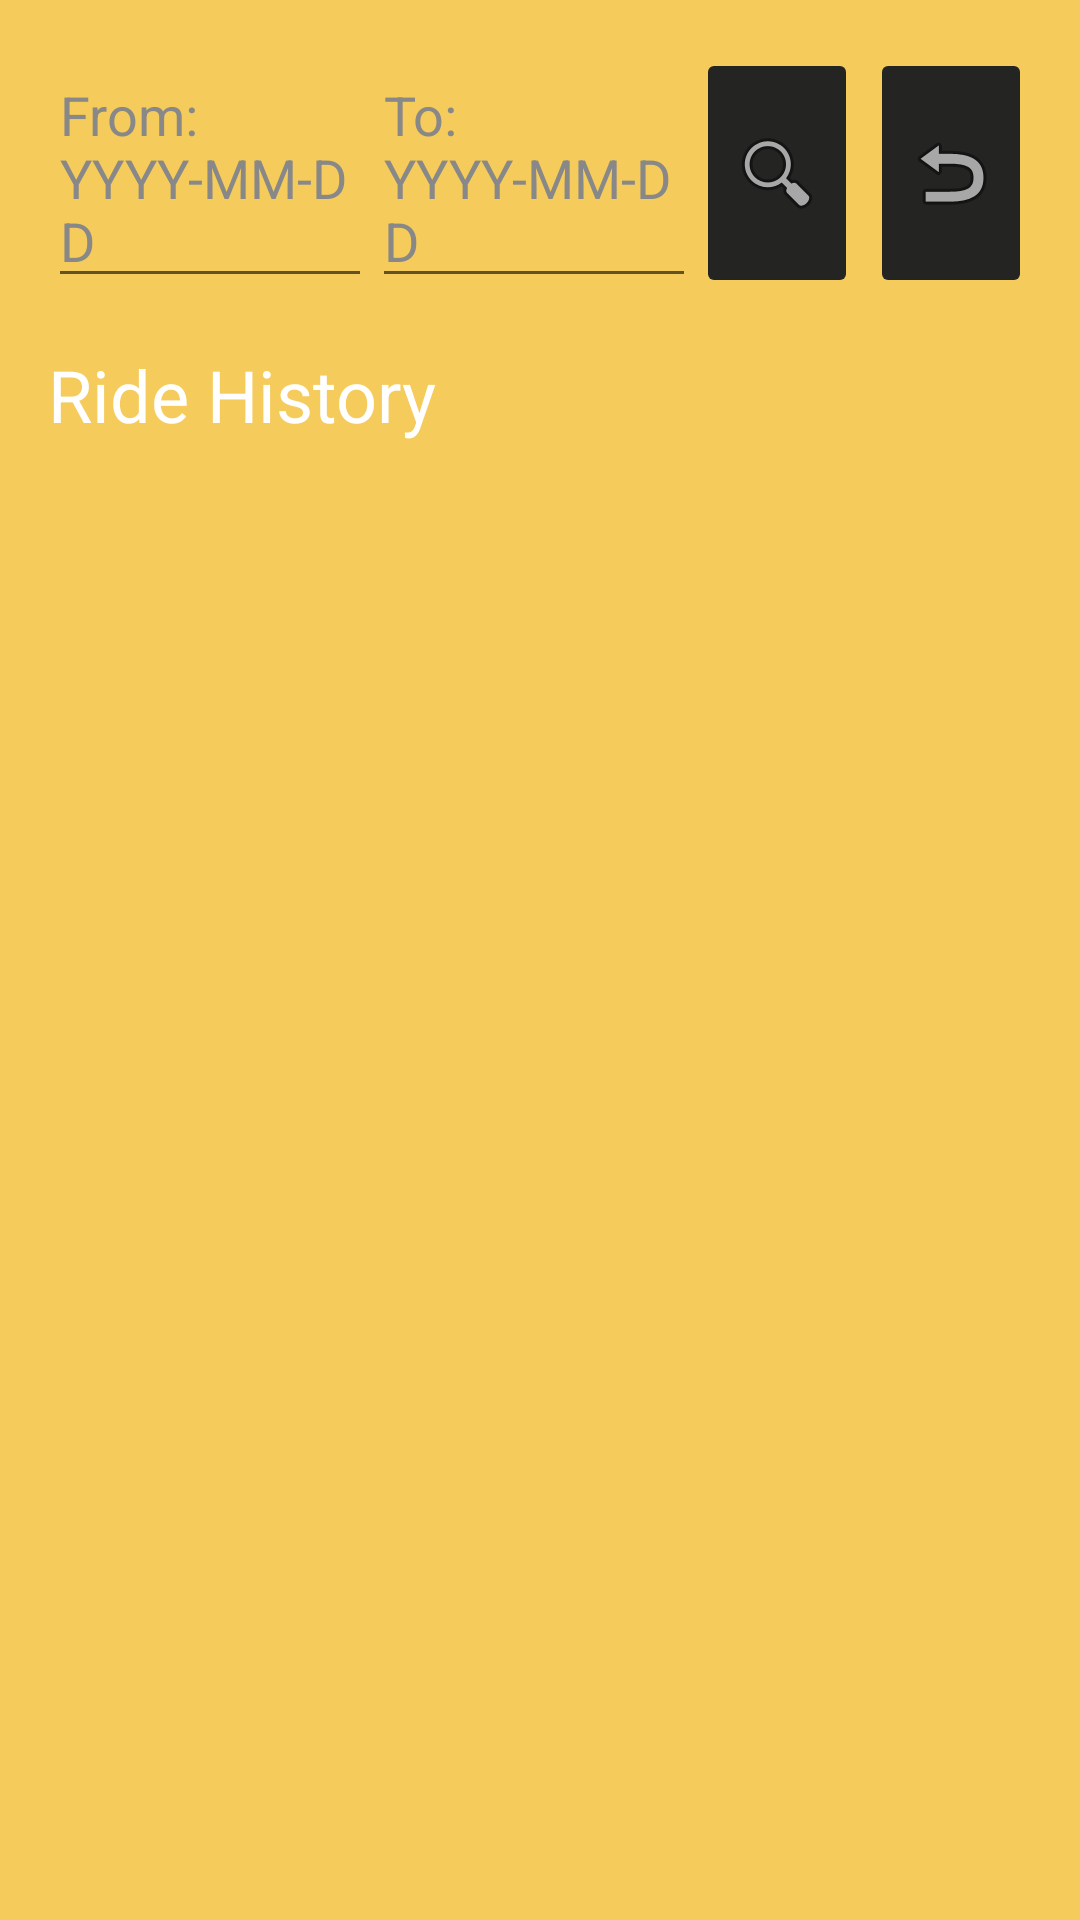

Icons on this 1080×1920 Android screen, each with its box as [x1, y1, x2, y2]:
revert: [882, 66, 1020, 280]
search: [708, 66, 846, 280]
